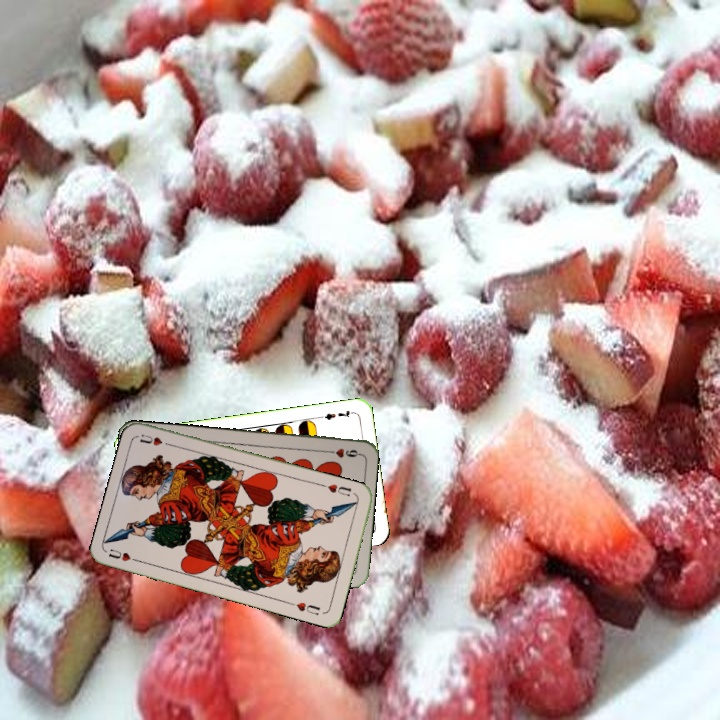E7: (316, 406, 356, 423)
H9: (322, 444, 362, 460)
HU: (104, 545, 144, 565), (324, 480, 354, 499)
